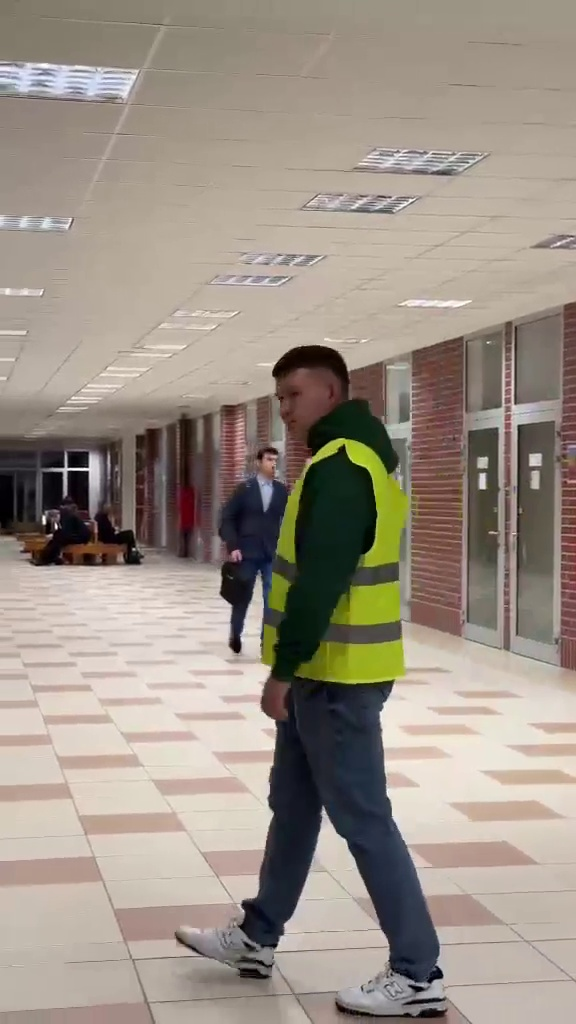no vest: (218, 439, 275, 646)
vest: (263, 344, 451, 1024)
